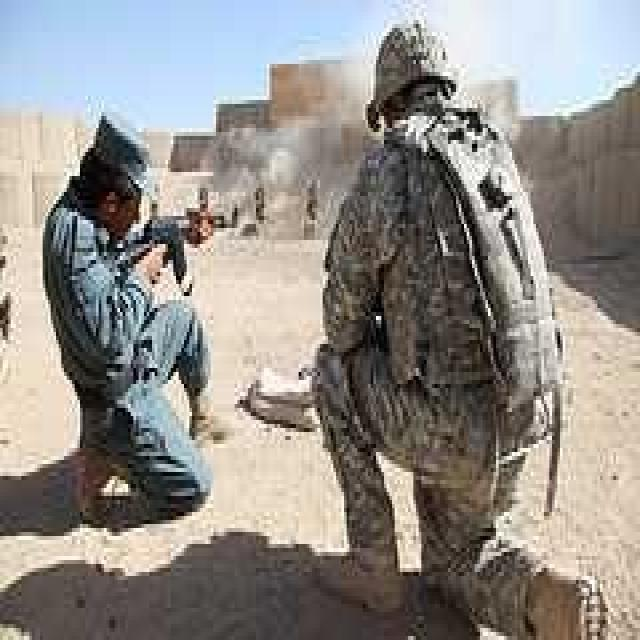Rifle: (104, 186, 246, 283)
